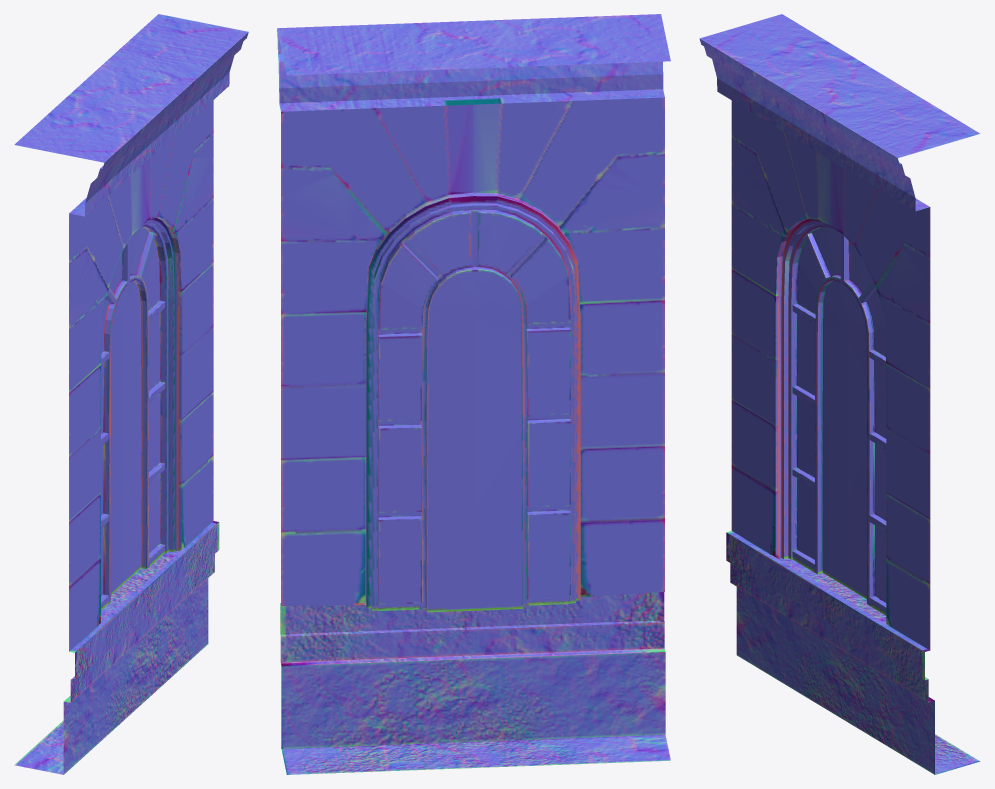
3 renders of one model, left to right at view 1: azimuth 30°, elevation 25°; view 2: azimuth 150°, elevation 25°; view 3: azimuth 270°, elevation 25°, orthographic. The views are drawn at different scales.
Parts seen in each view (by area): view 1: SM_1FwindowHN__10_; view 2: SM_1FwindowHN__10_; view 3: SM_1FwindowHN__10_.
Part boxes in pixels (<box>): SM_1FwindowHN__10_: <box>14,14,248,774</box>; SM_1FwindowHN__10_: <box>277,14,670,774</box>; SM_1FwindowHN__10_: <box>699,14,979,774</box>.
Size of the model in its own units: 170 by 344 by 140.
